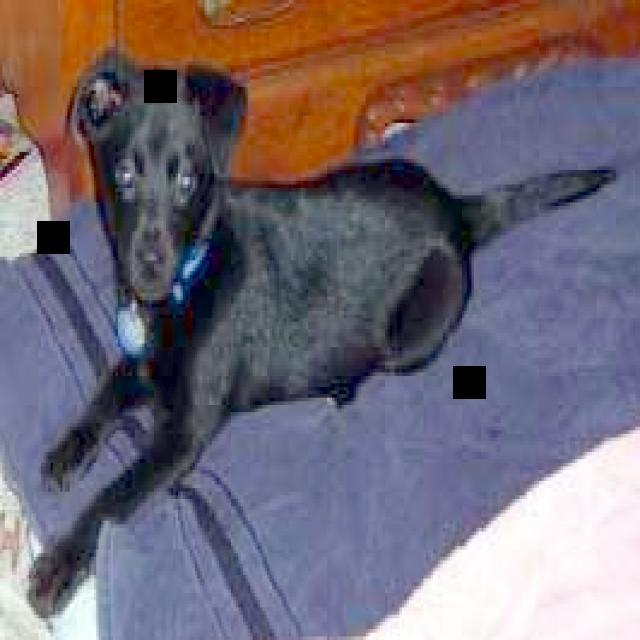adult_dog: (22, 46, 618, 624)
